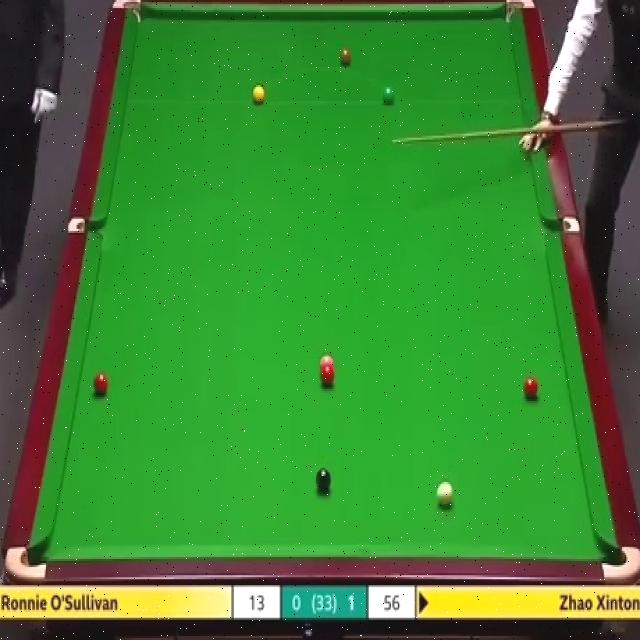black-ball: (315, 468, 332, 494)
brown-ball: (339, 48, 352, 68)
green-ball: (381, 85, 395, 105)
pink-ball: (319, 354, 335, 369)
red-ball: (94, 370, 110, 397), (522, 374, 538, 399), (319, 366, 336, 387)
white-ball: (436, 482, 453, 507)
yellow-ball: (254, 87, 267, 106)
